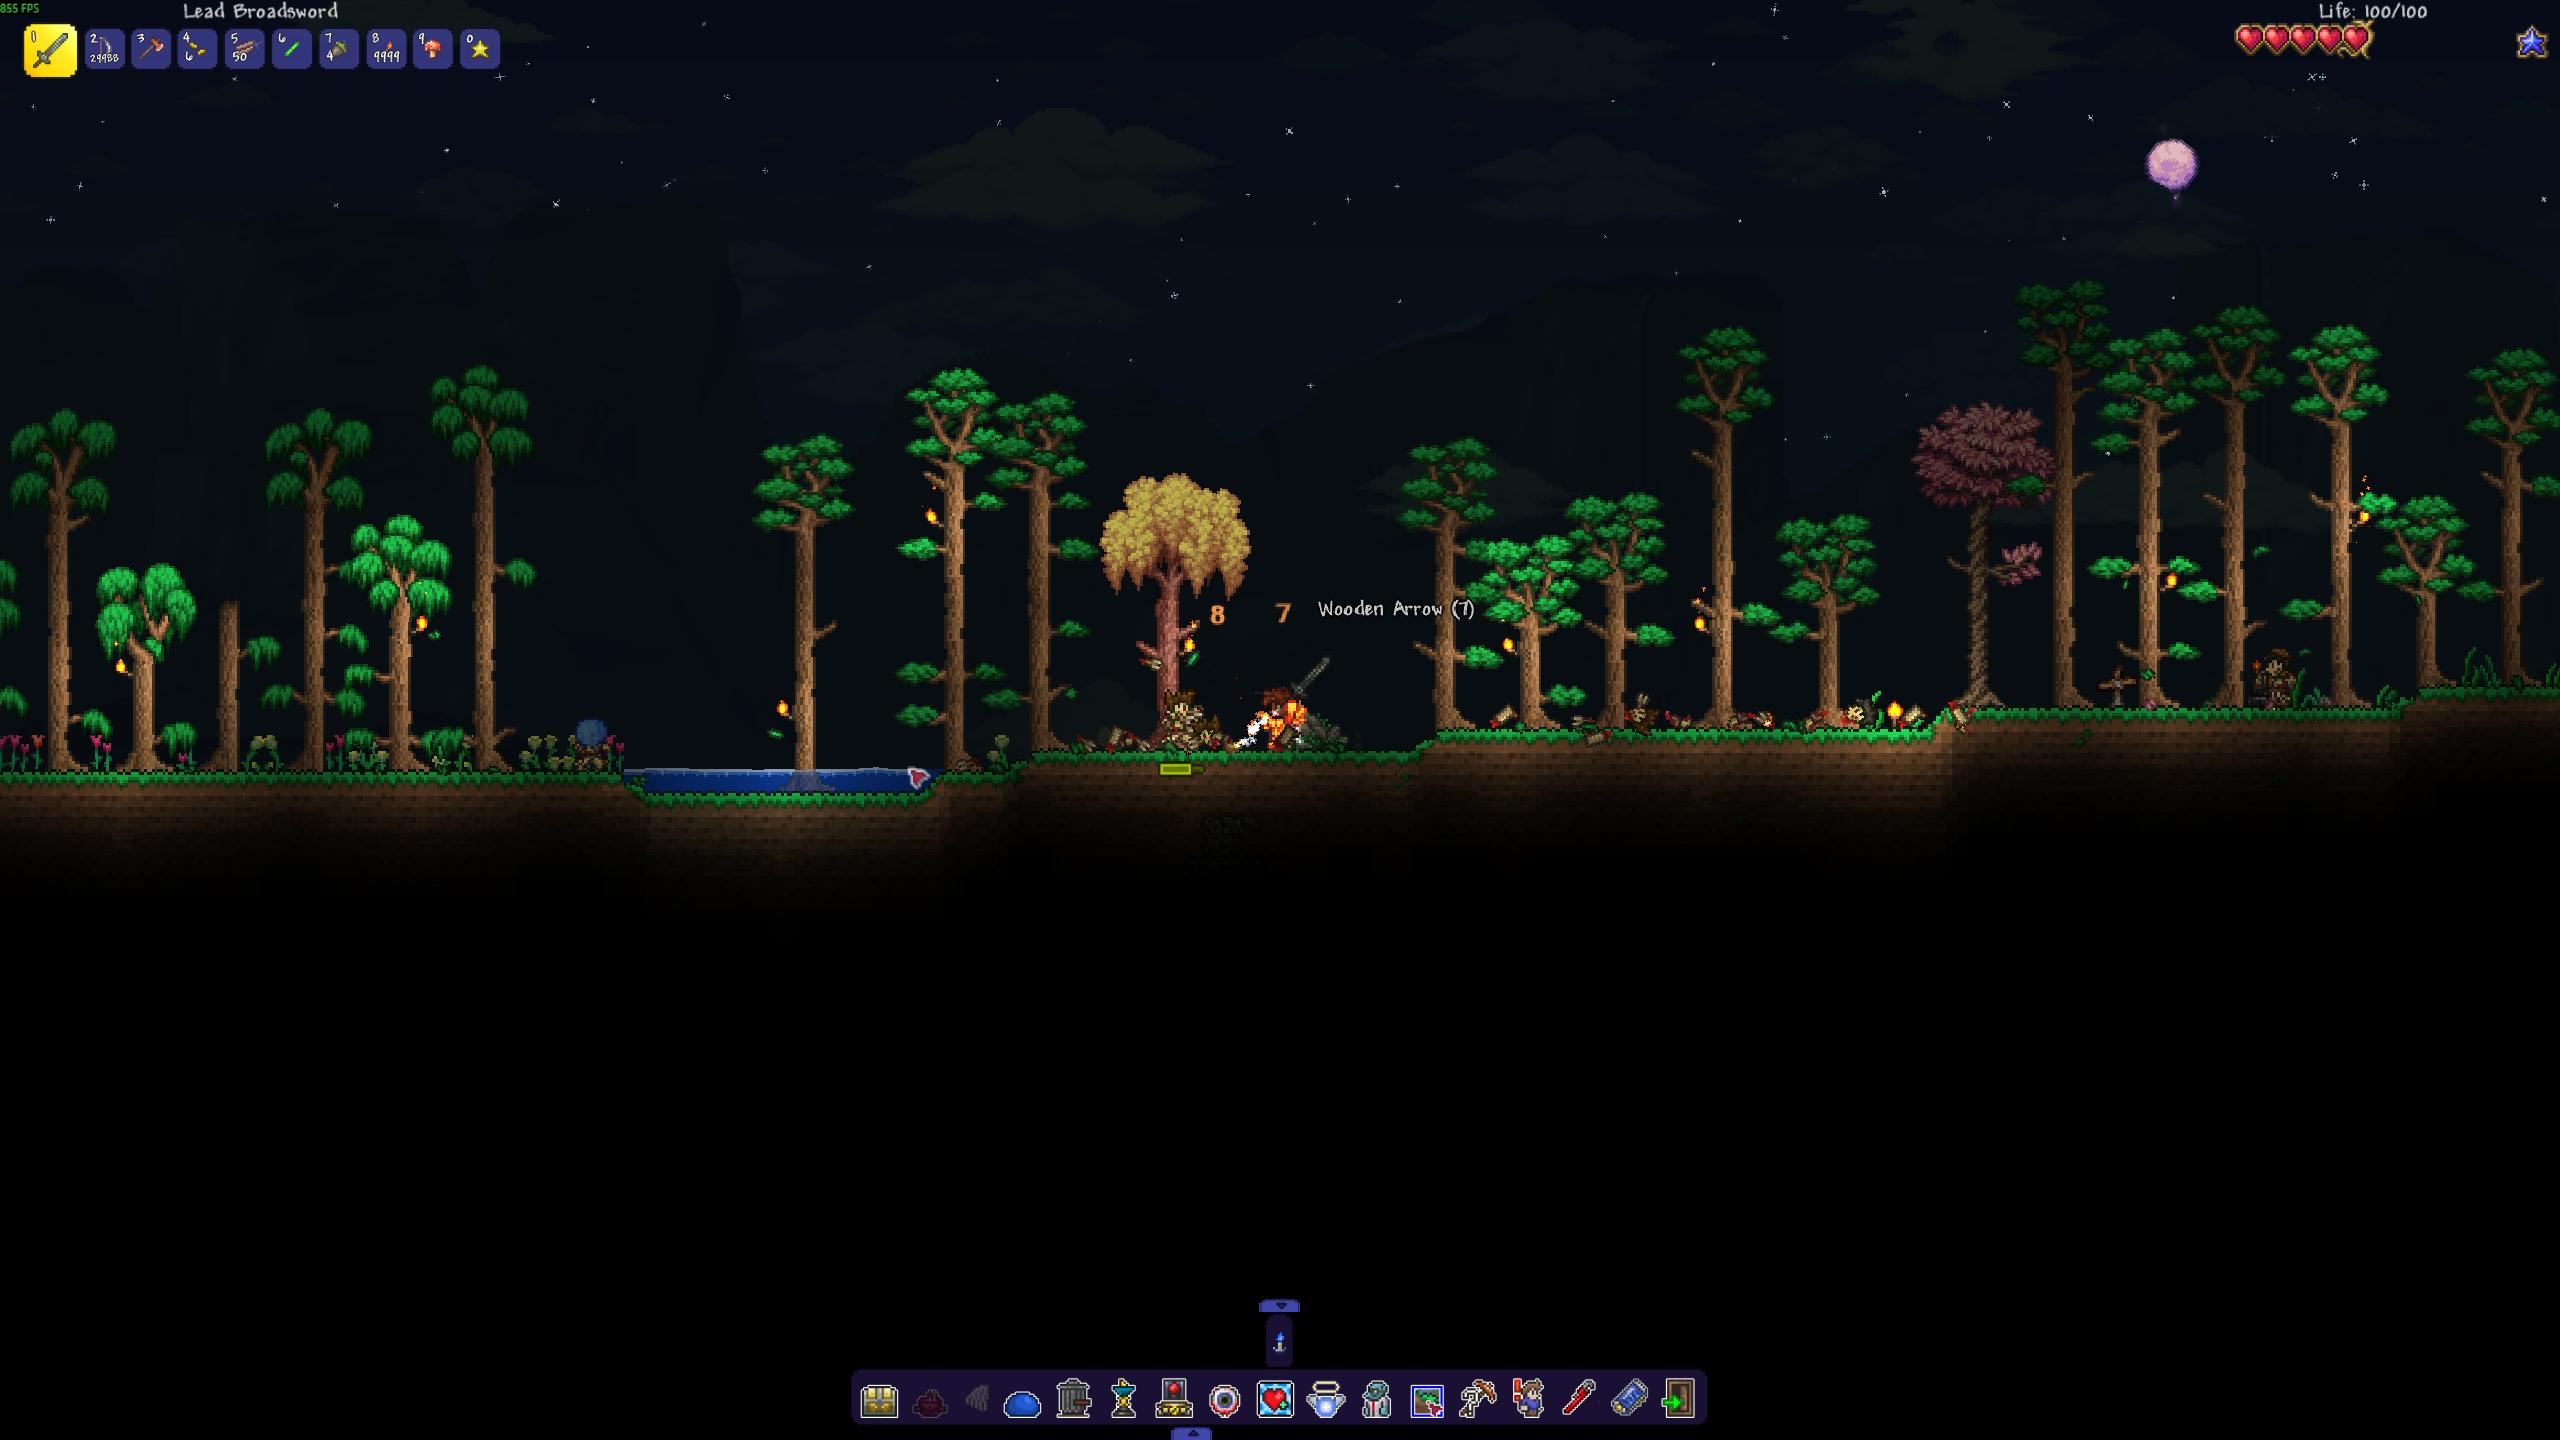Zombie: (1159, 679, 1208, 751), (2245, 638, 2296, 705), (566, 709, 615, 770)
